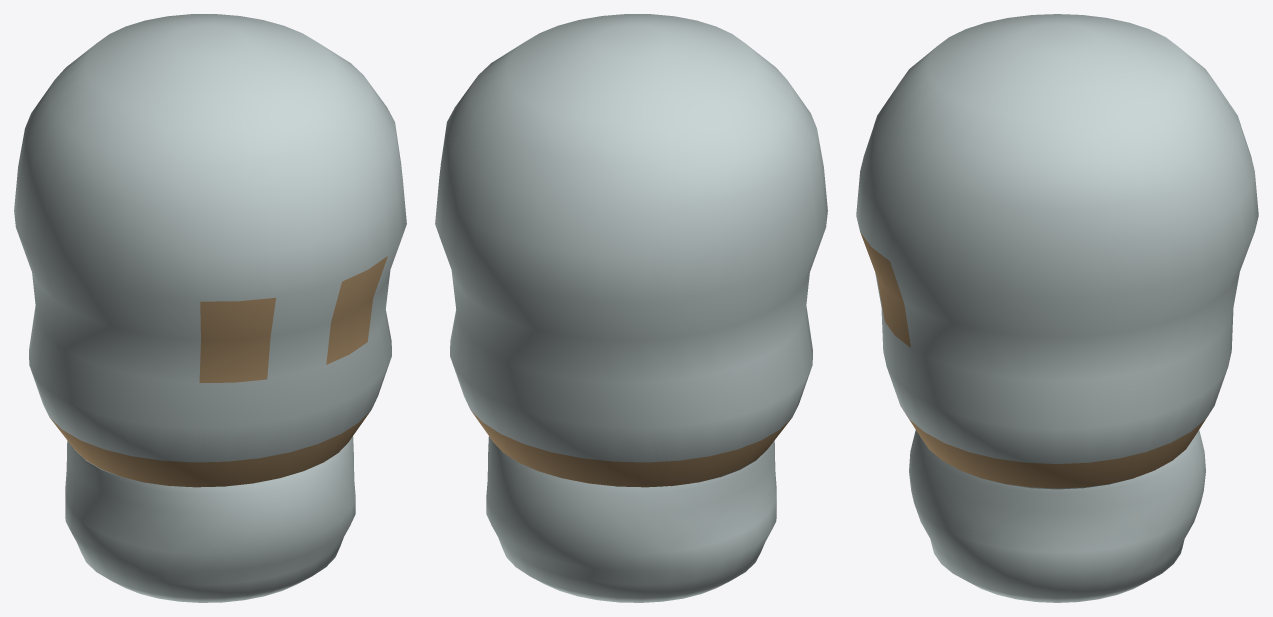
The model's file is body.gltf.
3 views of the same model, side by side, from view 1: azimuth 30°, elevation 25°; view 2: azimuth 150°, elevation 25°; view 3: azimuth 270°, elevation 25° (orthographic).
Parts seen in each view (by area): view 1: body.006, Sphere.012; view 2: body.006, Sphere.012; view 3: body.006, Sphere.012.
Boxes of the visible parts, x1=… form: body.006: x1=14, y1=14, x2=406, y2=487; Sphere.012: x1=65, y1=436, x2=355, y2=602; body.006: x1=435, y1=14, x2=827, y2=487; Sphere.012: x1=486, y1=436, x2=776, y2=602; body.006: x1=856, y1=14, x2=1258, y2=489; Sphere.012: x1=909, y1=430, x2=1205, y2=602.
Bounding box in the file's own units: 0.2714 × 0.4028 × 0.2798.
2 materials, 2 textured.
